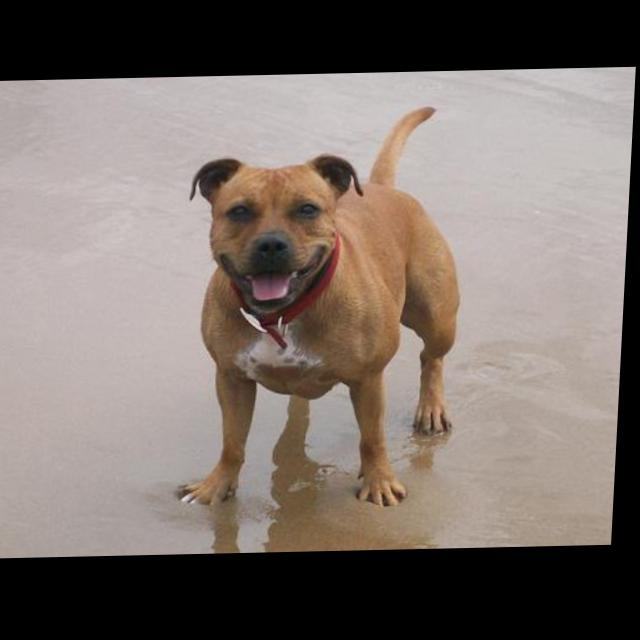staffford: (180, 107, 474, 515)
